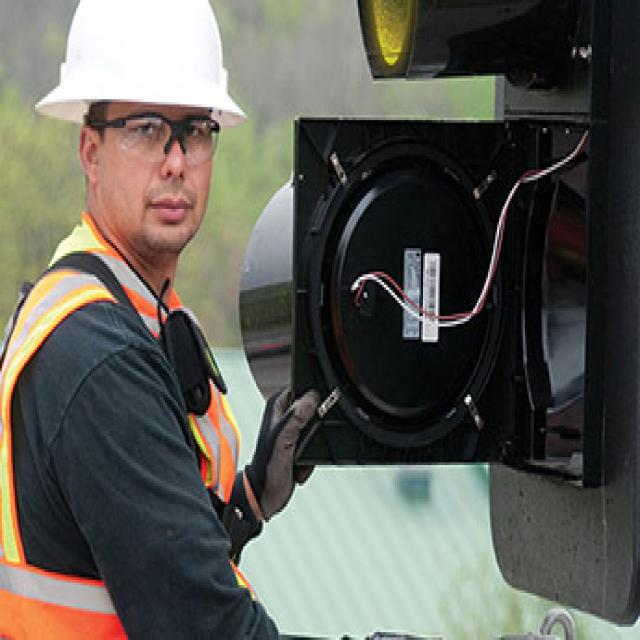Reflective-Jacket: (0, 230, 263, 635)
Safety-Helmet: (37, 5, 249, 141)
